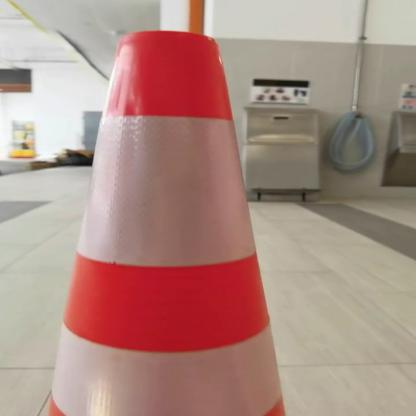cone: (31, 25, 329, 415)
